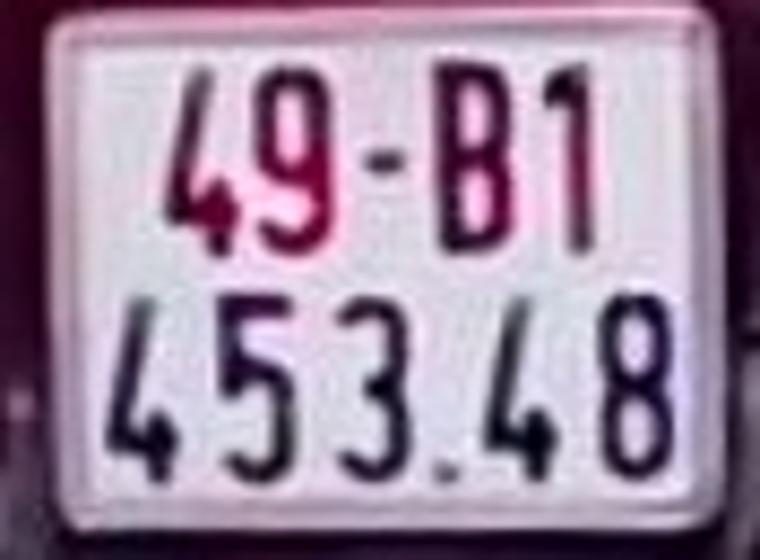-: (363, 148, 401, 171)
.: (435, 459, 456, 481)
1: (546, 59, 597, 255)
3: (339, 296, 410, 481)
4: (482, 301, 561, 483), (162, 67, 238, 251), (102, 299, 177, 481)
5: (212, 292, 298, 484)
8: (595, 292, 673, 480)
9: (251, 73, 332, 255)
B: (431, 56, 513, 251)
